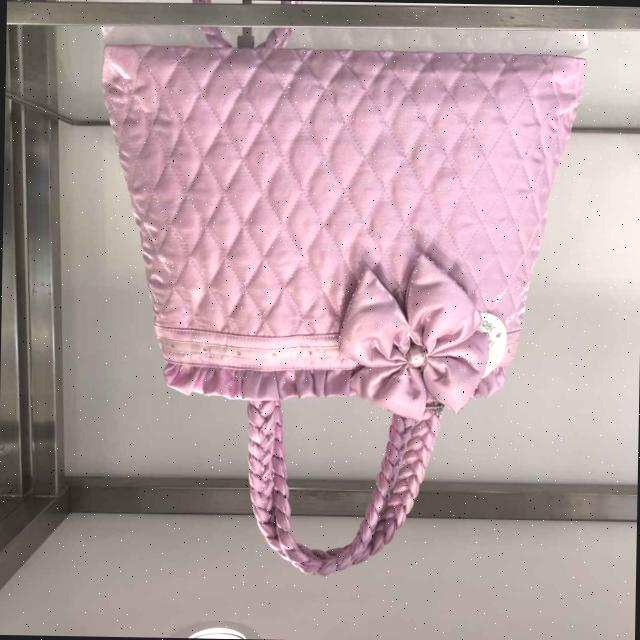Handbag: (98, 0, 612, 434)
